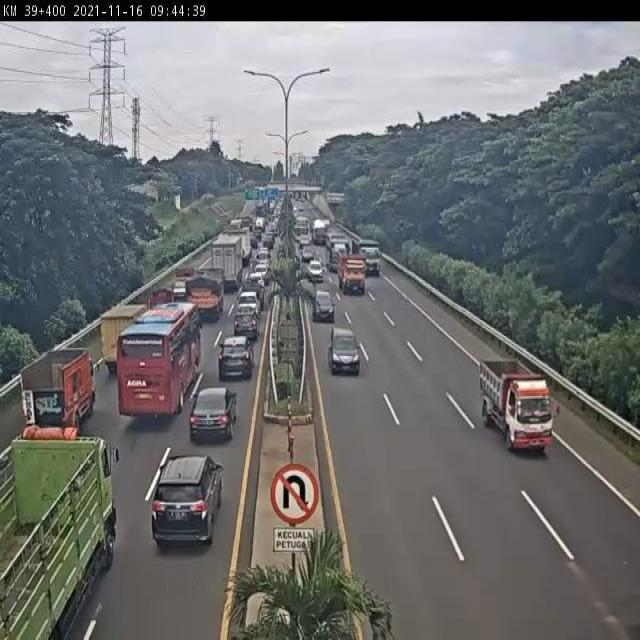big bus: (118, 305, 200, 415)
car: (151, 454, 218, 546), (188, 393, 234, 451), (216, 340, 254, 383), (328, 326, 361, 374), (233, 309, 257, 342), (313, 291, 337, 321), (243, 279, 264, 308), (237, 292, 259, 316)
small truck: (97, 305, 146, 379)
truck-l-: (212, 235, 242, 288)
truck-m-: (0, 429, 122, 640), (480, 361, 564, 455), (14, 352, 94, 439), (183, 264, 224, 316)
